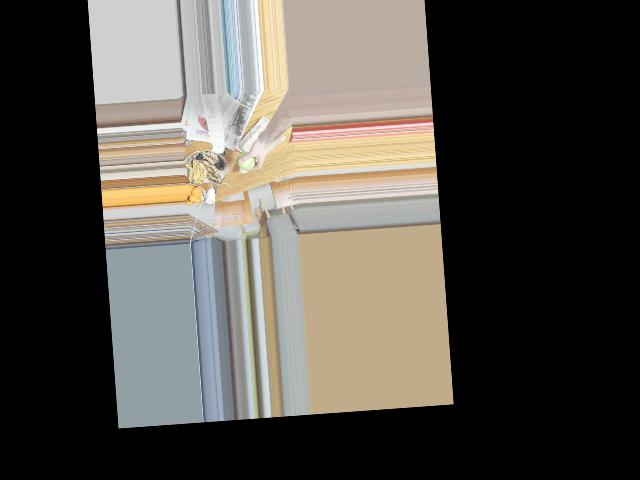apple: (236, 146, 258, 173)
